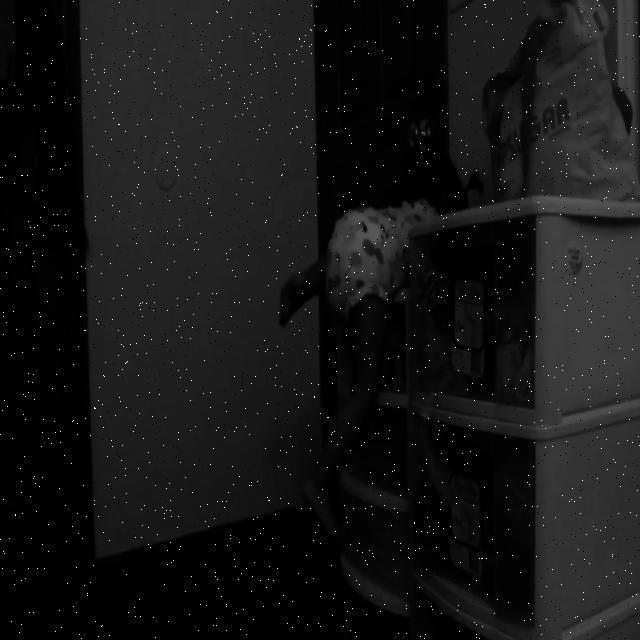child: (275, 150, 470, 523)
